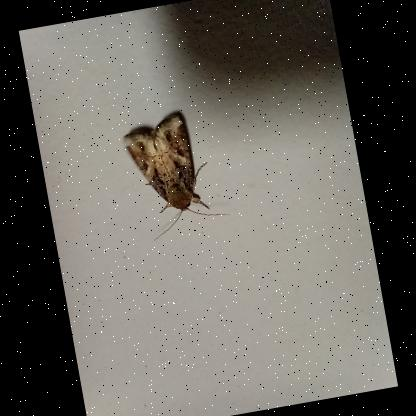Fall Armyworm Moth: (116, 102, 233, 245)
